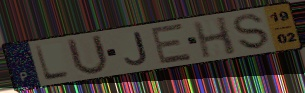E: (149, 22, 194, 66)
H: (190, 15, 239, 60)
J: (122, 30, 151, 67)
L: (32, 43, 72, 82)
S: (231, 12, 272, 51)
U: (64, 34, 112, 77)
